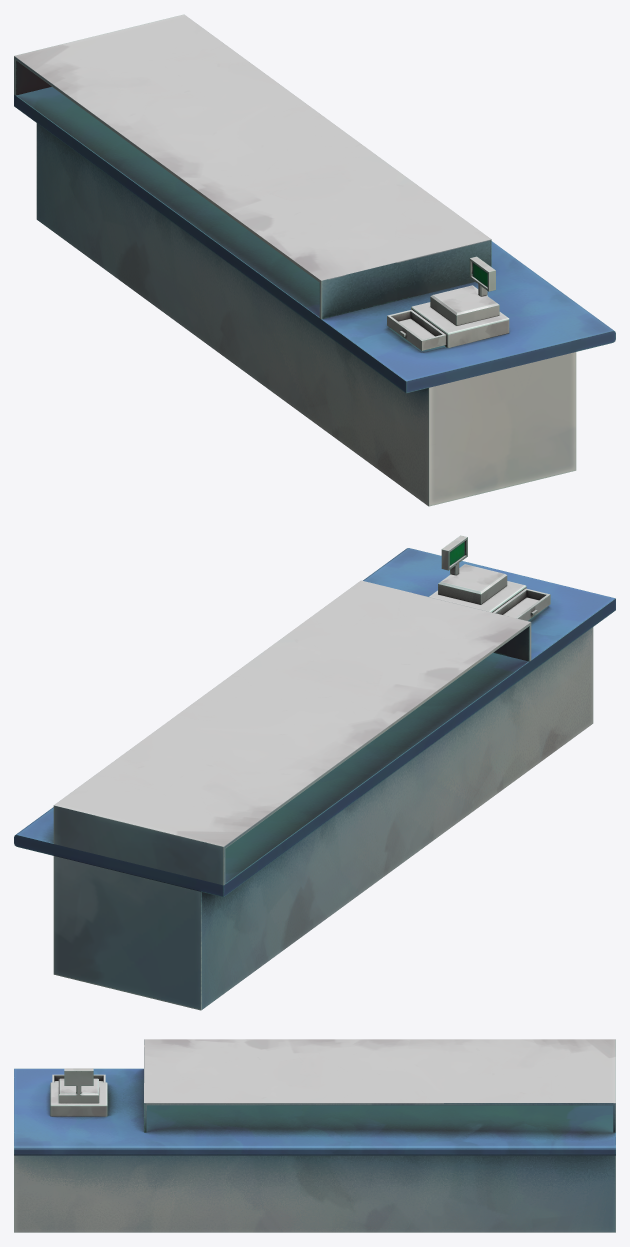
File: pip2_canteen_bm 1.fbx
3 renders of one model, top to bottom at view 1: azimuth 30°, elevation 25°; view 2: azimuth 150°, elevation 25°; view 3: azimuth 270°, elevation 25°, orthographic. The views are drawn at different scales.
Parts seen in each view (by area): view 1: canteen_food; view 2: canteen_food; view 3: canteen_food.
Boxes of the visible parts, bbox=[...] form: canteen_food: bbox=[14, 14, 615, 506]; canteen_food: bbox=[14, 535, 615, 1010]; canteen_food: bbox=[14, 1039, 615, 1232].
Size of the model in its own units: 185 by 158 by 600.
4 materials, 4 textured.
